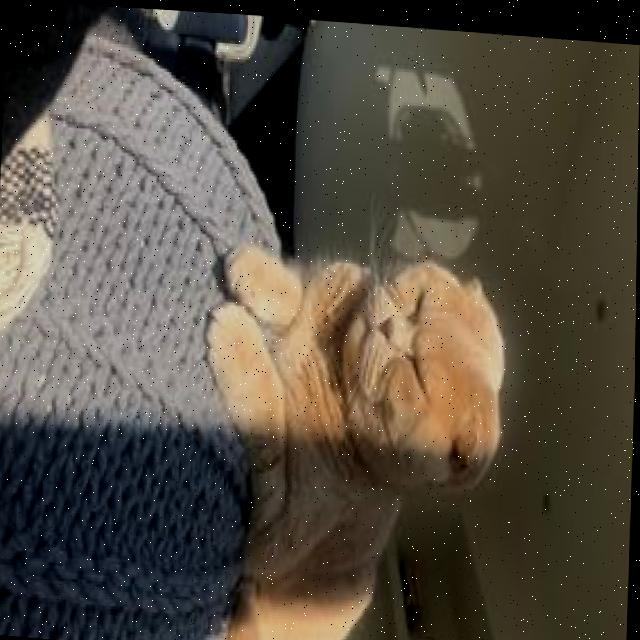Scottish Fold: (193, 217, 515, 640)
